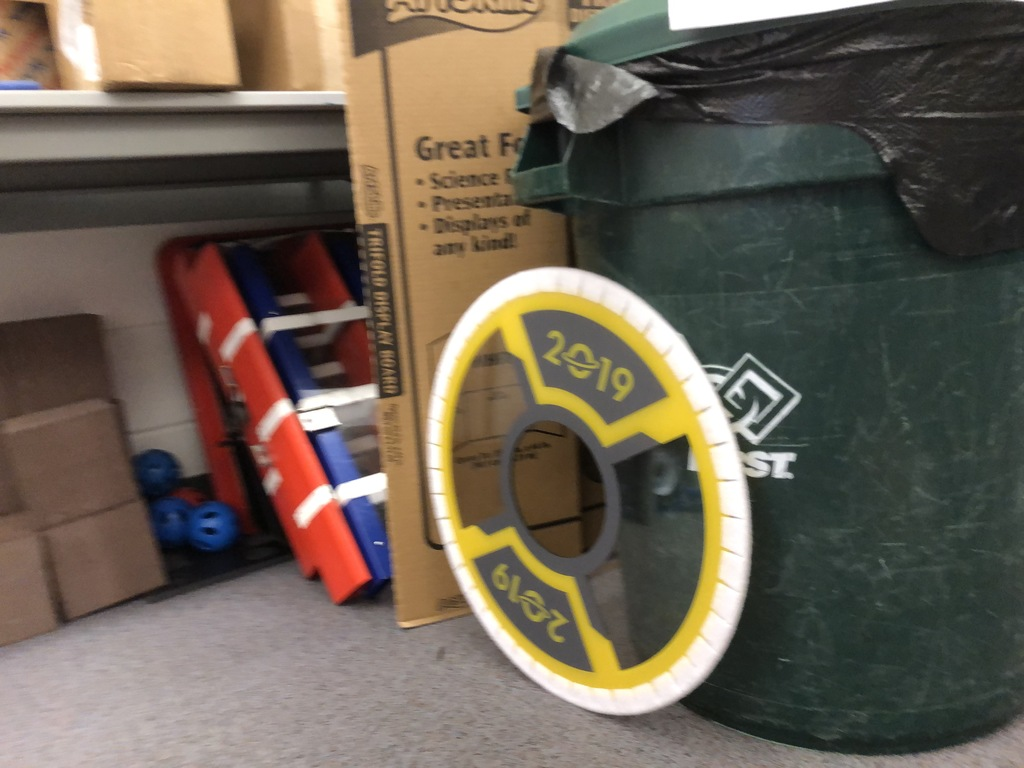hatch_panel: (415, 252, 760, 744)
